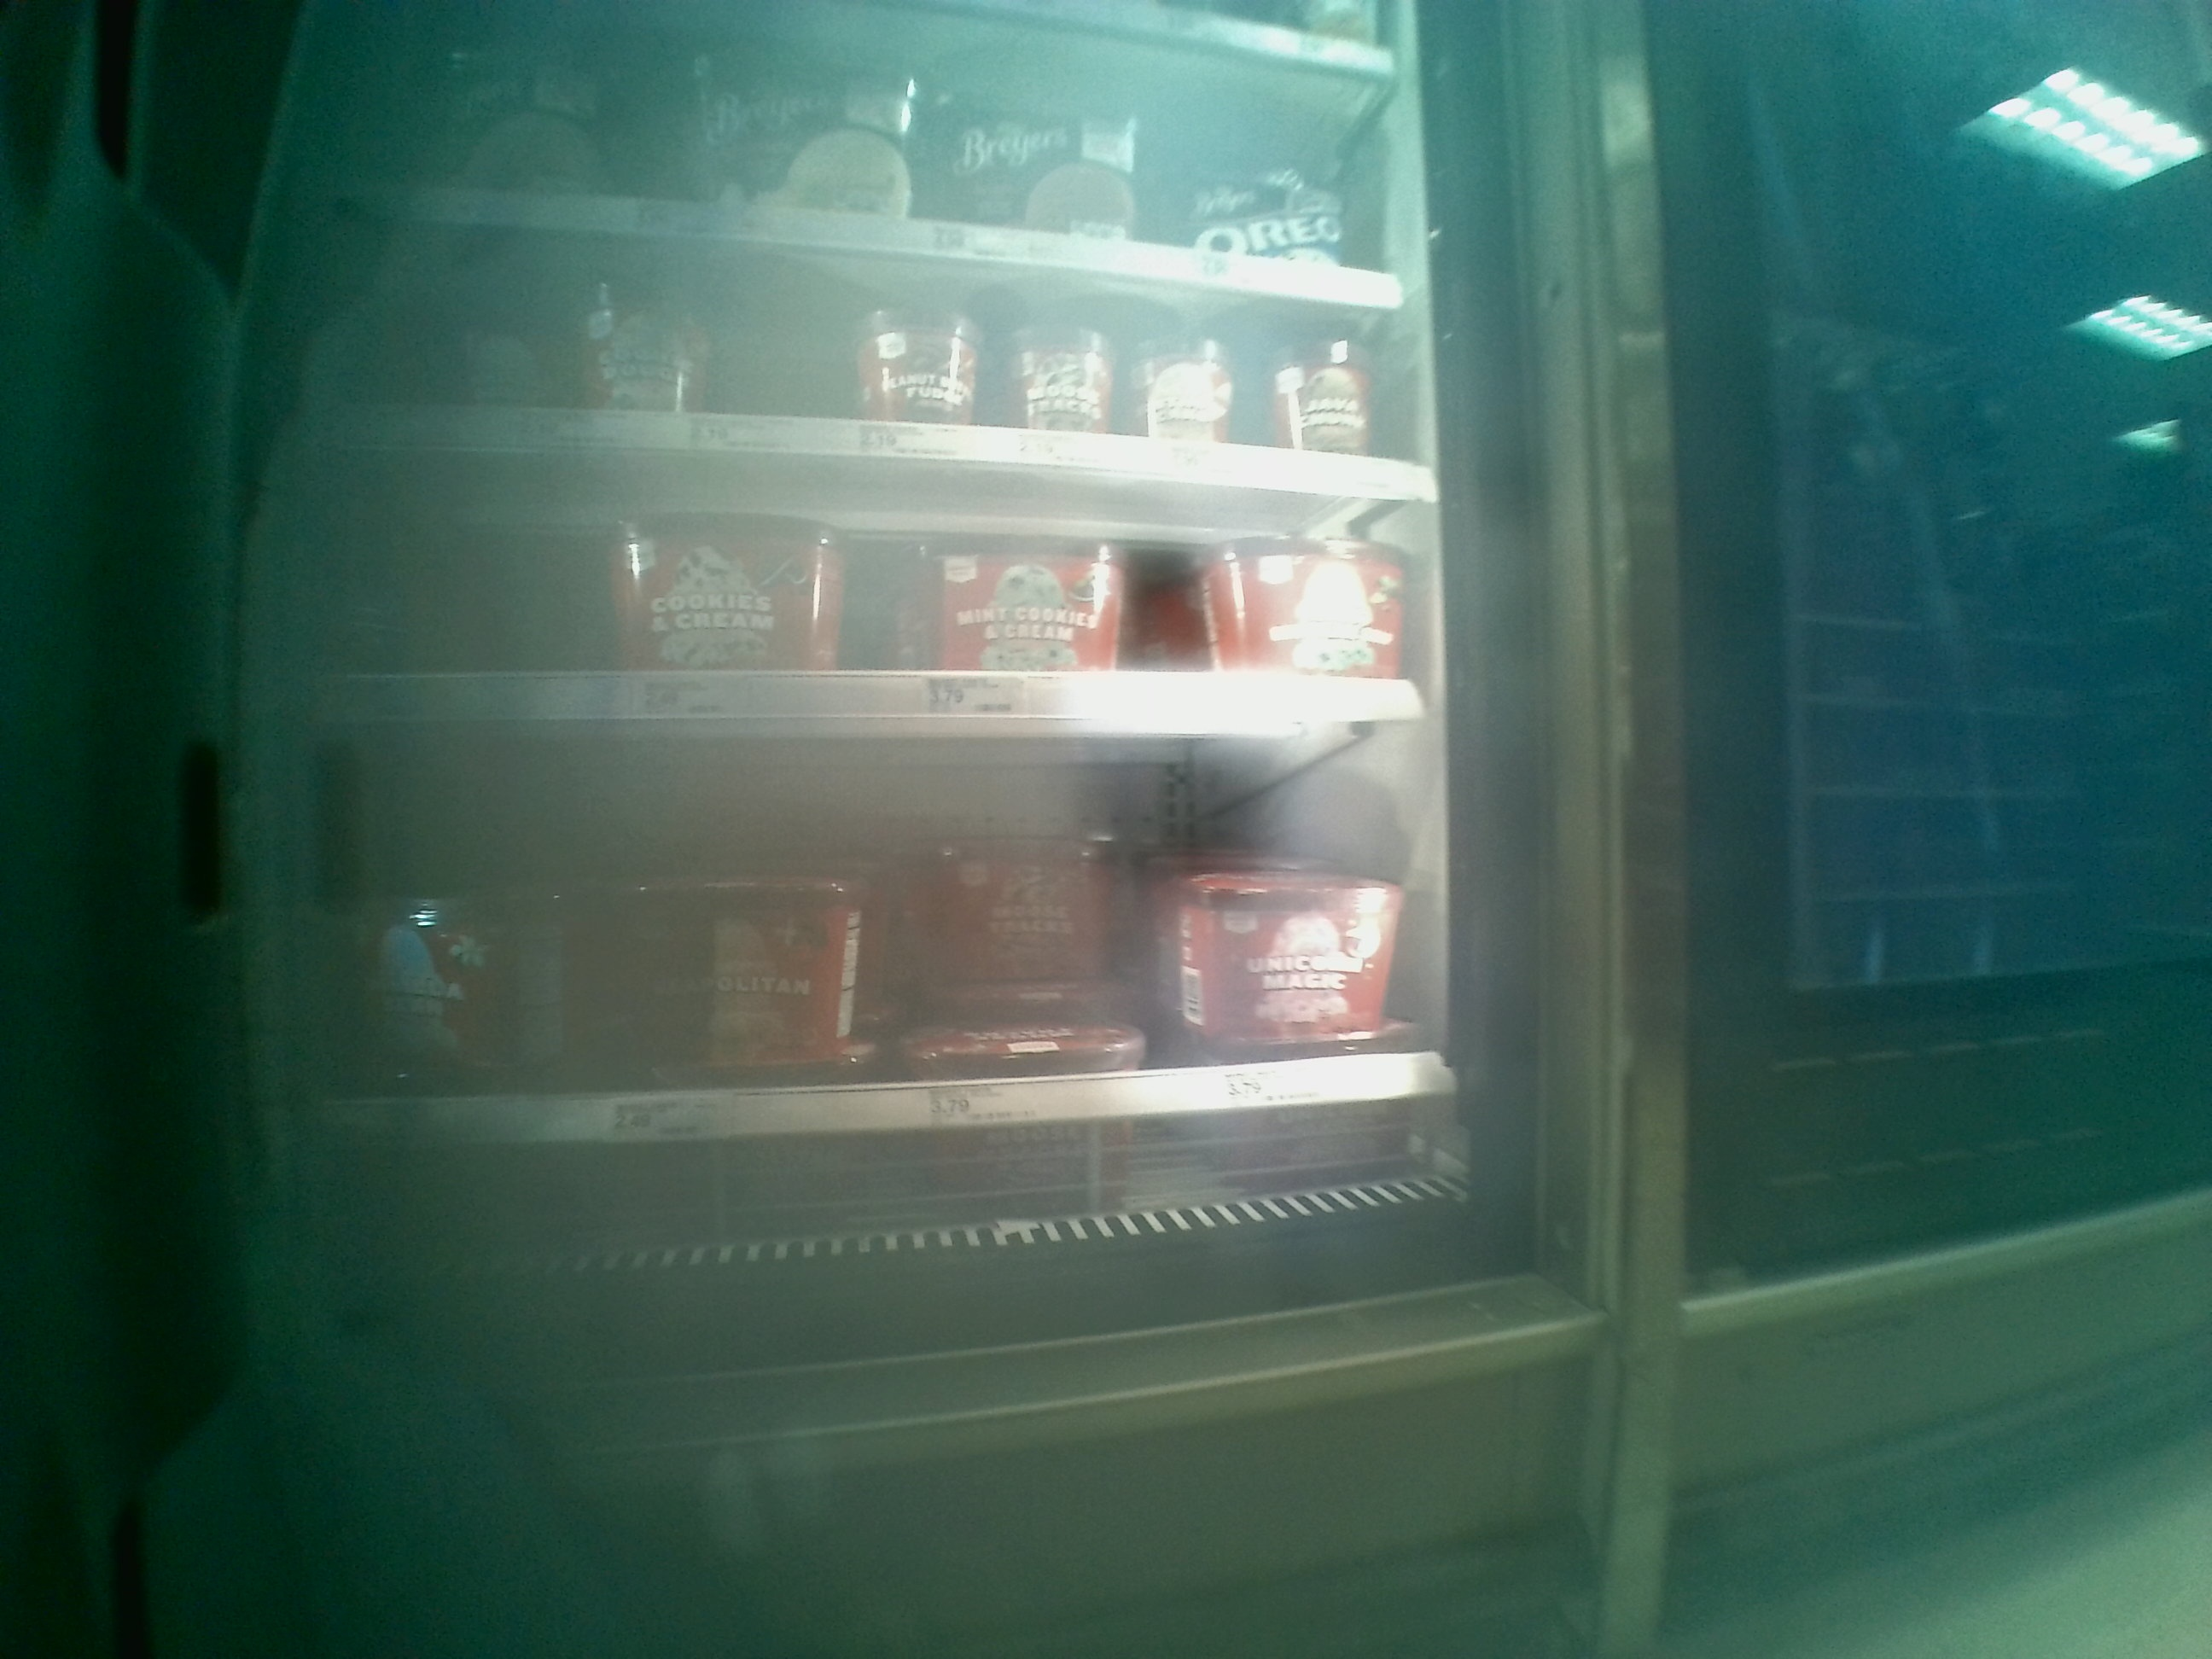shelf: (298, 732, 1480, 1218), (320, 209, 1435, 505), (301, 455, 1451, 728)
